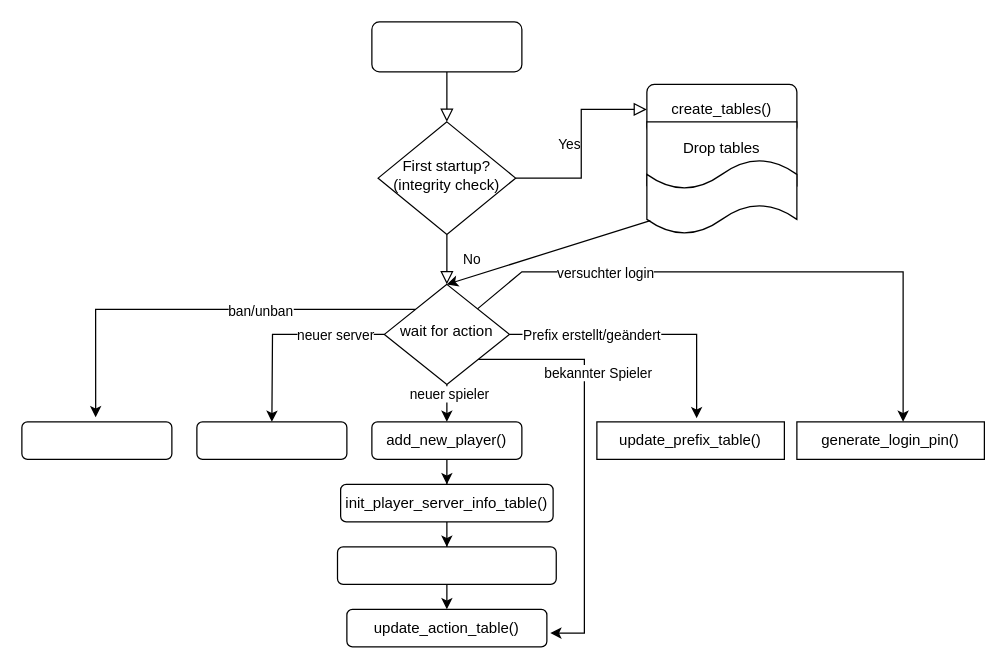
Some shapes in this 1006 by 669 pixel diagram are drawn without their labels. The box of each missing label's shape, as (x1, y1, x2, y2) in pixels:
init_prefix_table(): (336, 546, 556, 584)
register_new_server(): (196, 421, 347, 459)
run init query: (646, 158, 797, 234)
Startup: (371, 21, 522, 72)
update_ban_table(): (21, 421, 172, 459)
